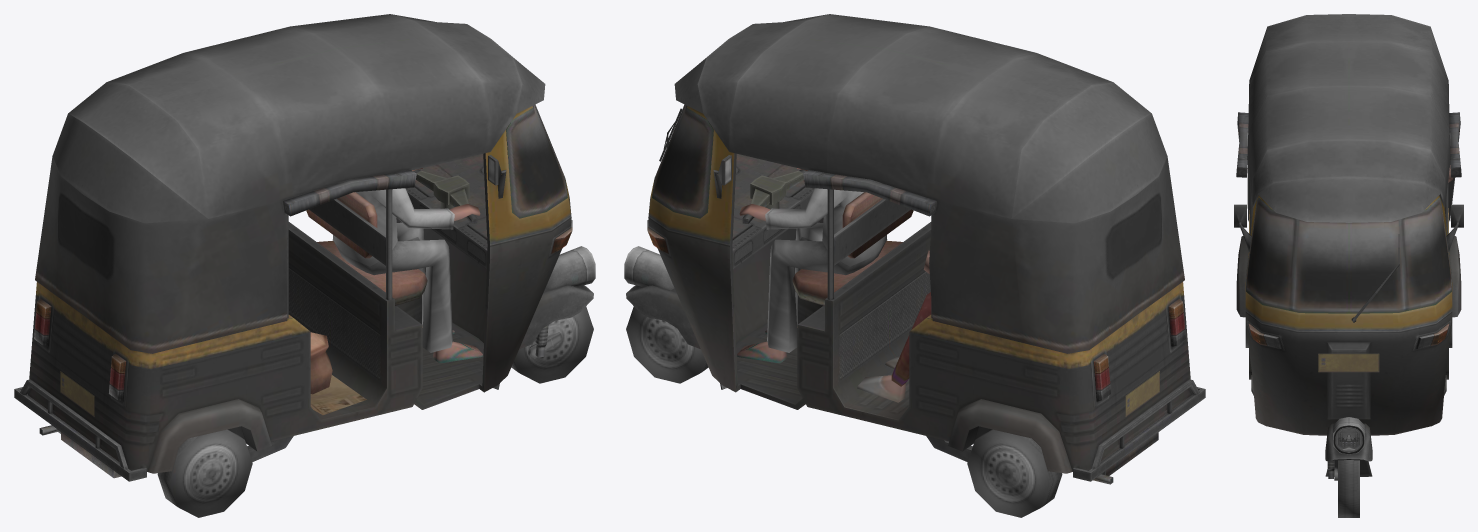
Rendered from sf_rickshaw_01.glb.
3 renders of one model, left to right at view 1: azimuth 30°, elevation 25°; view 2: azimuth 150°, elevation 25°; view 3: azimuth 270°, elevation 25°, orthographic. The views are drawn at different scales.
Visible parts, largest first — view 1: Traffick_Rickshaw_01_Body, Traffick_Rickshaw_01_Wheel_Rear_R_Traffic_Rickshaw_Component, Traffick_Rickshaw_01_Glass, Traffick_Rickshaw_01_Wheel_Front_Traffic_Rickshaw_Component_; view 2: Traffick_Rickshaw_01_Body, Traffick_Rickshaw_01_Wheel_Rear_L_Traffic_Rickshaw_Component, Traffick_Rickshaw_01_Glass, Traffick_Rickshaw_01_Wheel_Front_Traffic_Rickshaw_Component_; view 3: Traffick_Rickshaw_01_Body, Traffick_Rickshaw_01_Glass, Traffick_Rickshaw_01_Wheel_Front_Traffic_Rickshaw_Component_, Traffick_Rickshaw_01_Light.
Boxes of the visible parts, x1,y1,x2,y2 form: Traffick_Rickshaw_01_Body: (14,14,595,481); Traffick_Rickshaw_01_Wheel_Rear_R_Traffic_Rickshaw_Component: (157,429,252,517); Traffick_Rickshaw_01_Glass: (506,104,567,218); Traffick_Rickshaw_01_Wheel_Front_Traffic_Rickshaw_Component_: (511,306,593,383); Traffick_Rickshaw_01_Body: (624,14,1205,484); Traffick_Rickshaw_01_Wheel_Rear_L_Traffic_Rickshaw_Component: (967,429,1062,517); Traffick_Rickshaw_01_Glass: (652,104,713,218); Traffick_Rickshaw_01_Wheel_Front_Traffic_Rickshaw_Component_: (626,306,708,383); Traffick_Rickshaw_01_Body: (1234,14,1463,480); Traffick_Rickshaw_01_Glass: (1246,197,1451,313); Traffick_Rickshaw_01_Wheel_Front_Traffic_Rickshaw_Component_: (1338,460,1359,517); Traffick_Rickshaw_01_Light: (1263,334,1434,454).
Bounding box in the file's own units: 3.01 × 2.11 × 1.31.
4 materials, 4 textured.
